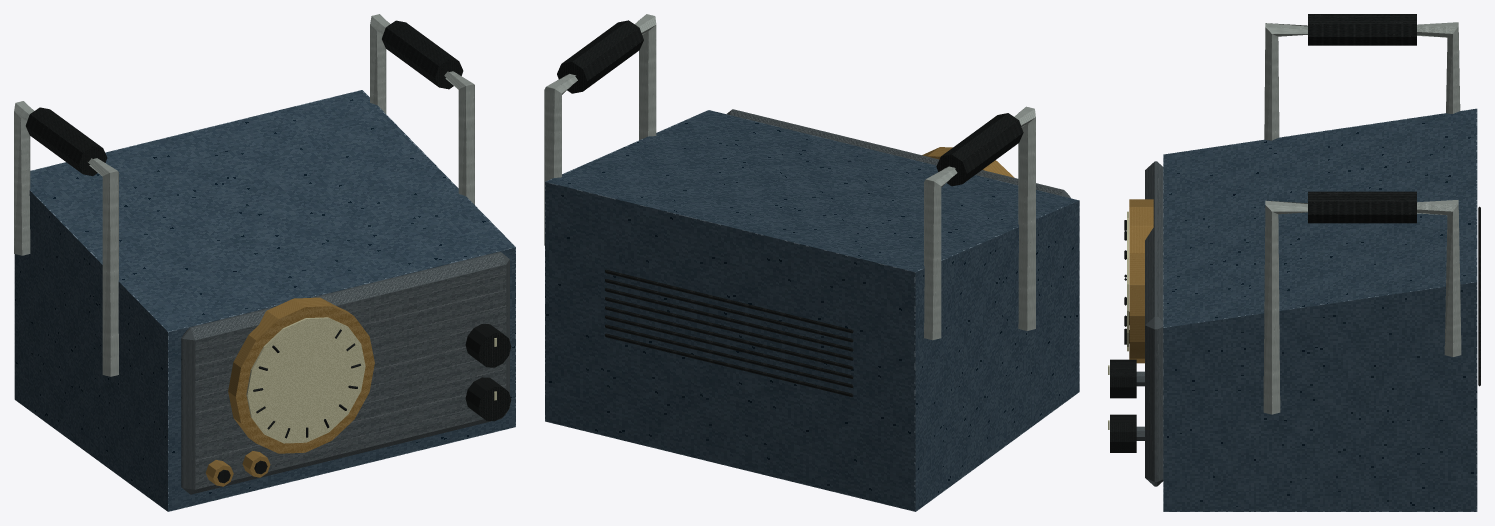
File: blender_spectral_frequency_analyzer_1.glb
3 views of the same model, side by side, from view 1: azimuth 30°, elevation 25°; view 2: azimuth 150°, elevation 25°; view 3: azimuth 270°, elevation 25° (orthographic). The views are drawn at different scales.
Parts seen in each view (by area): view 1: blender_spectral_frequency_analyzer_1; view 2: blender_spectral_frequency_analyzer_1; view 3: blender_spectral_frequency_analyzer_1.
Part boxes in pixels (box(x1,y1,x2,y2)): blender_spectral_frequency_analyzer_1: box(14, 14, 515, 511); blender_spectral_frequency_analyzer_1: box(544, 14, 1079, 511); blender_spectral_frequency_analyzer_1: box(1108, 14, 1480, 511).
Bounding box in the file's own units: 0.188 × 0.147 × 0.1543.
7 materials, 7 textured.
